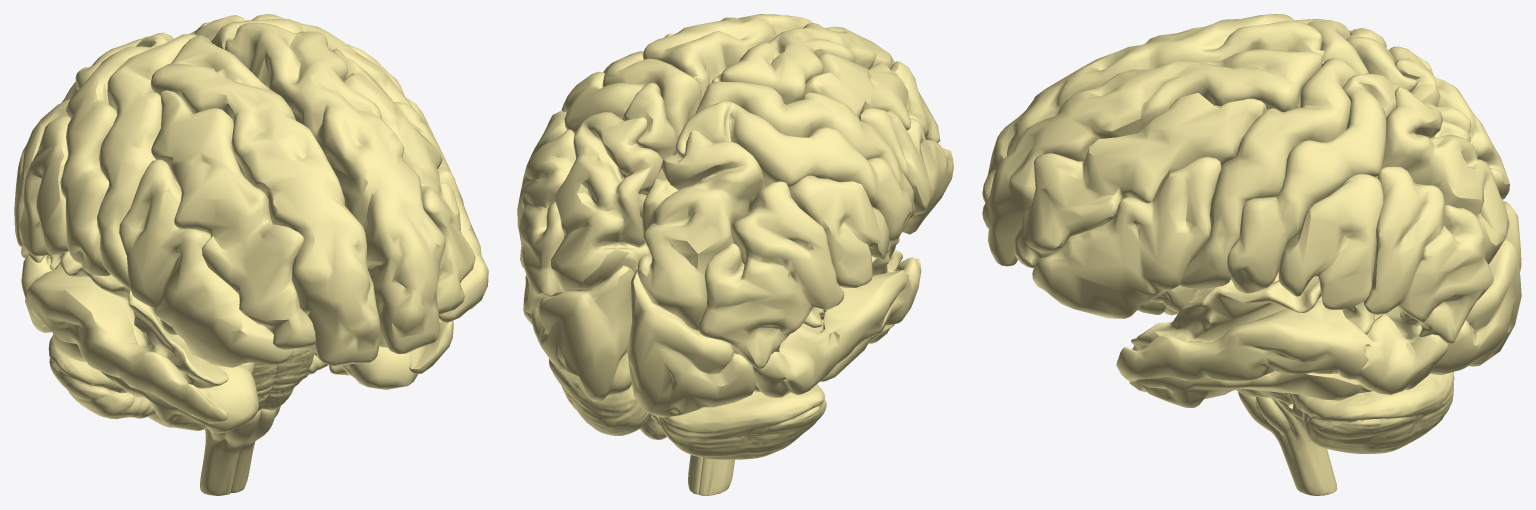
File: cerebro-detalle.glb
3 views of the same model, side by side, from view 1: azimuth 30°, elevation 25°; view 2: azimuth 150°, elevation 25°; view 3: azimuth 270°, elevation 25° (orthographic). The views are drawn at different scales.
Parts seen in each view (by area): view 1: lobulo_frontal_der, lobulo_frontal_izq, lobulo_temporal_der, lobulo_parietal_der, tronco_encefalo, resto_hemisferio_der, cerebelo, lobulo_temporal_izq, lobulo_parietal_izq; view 2: lobulo_parietal_der, lobulo_parietal_izq, lobulo_frontal_der, cerebelo, lobulo_occipital_der, lobulo_temporal_der, lobulo_occipital_izq, lobulo_frontal_izq, tronco_encefalo, resto_hemisferio_der; view 3: lobulo_frontal_izq, lobulo_parietal_izq, lobulo_temporal_izq, lobulo_frontal_der, cerebelo, resto_hemisferio_izq, lobulo_parietal_der, lobulo_occipital_izq, tronco_encefalo, insula_izq.
Boxes of the visible parts, x1,y1,x2,y2 form: lobulo_frontal_der: (97,34,380,367); lobulo_frontal_izq: (211,19,488,354); lobulo_temporal_der: (21,254,258,433); lobulo_parietal_der: (14,32,173,276); tronco_encefalo: (200,348,314,495); resto_hemisferio_der: (50,251,316,388); cerebelo: (48,335,328,427); lobulo_temporal_izq: (312,319,453,389); lobulo_parietal_izq: (188,14,440,149); lobulo_parietal_der: (637,101,912,368); lobulo_parietal_izq: (517,71,677,313); lobulo_frontal_der: (695,23,953,234); cerebelo: (548,359,826,459); lobulo_occipital_der: (627,269,755,417); lobulo_temporal_der: (752,257,921,397); lobulo_occipital_izq: (531,265,634,401); lobulo_frontal_izq: (602,14,812,156); tronco_encefalo: (688,455,734,495); resto_hemisferio_der: (803,238,902,327); lobulo_frontal_izq: (982,49,1356,318); lobulo_parietal_izq: (1227,73,1509,343); lobulo_temporal_izq: (1116,301,1448,407); lobulo_frontal_der: (982,14,1368,202); cerebelo: (1289,372,1454,453); resto_hemisferio_izq: (1131,272,1421,349); lobulo_parietal_der: (1346,28,1509,199); lobulo_occipital_izq: (1430,239,1521,374); tronco_encefalo: (1236,389,1337,495); insula_izq: (1150,278,1231,312).
Bounding box in the file's own units: 0.1388 × 0.166 × 0.18.
